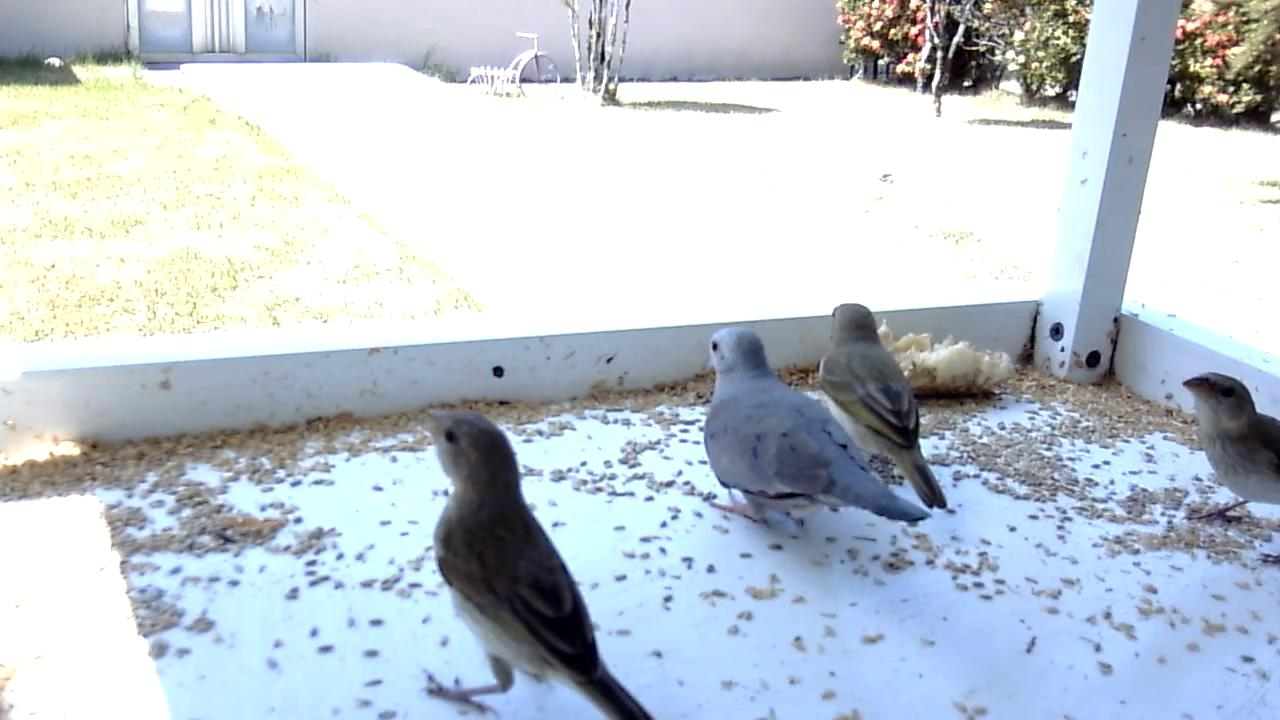canario_do_amazonas: (414, 408, 648, 720), (816, 297, 948, 511), (1169, 369, 1280, 573)
rolinha: (688, 323, 937, 524)
